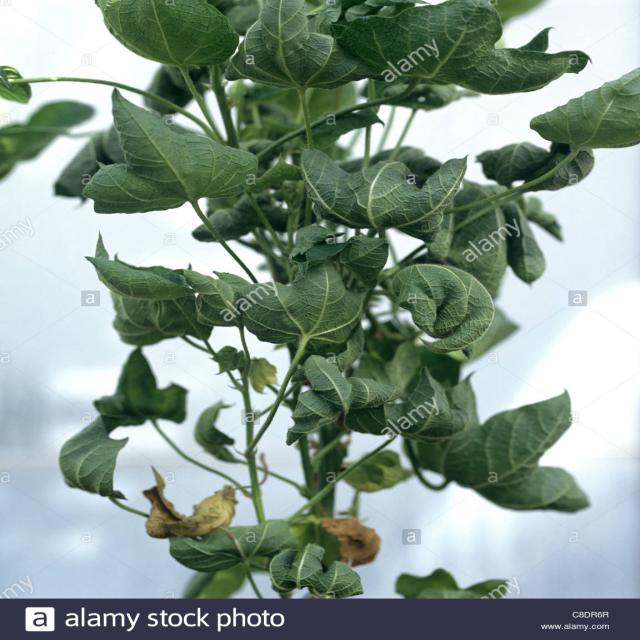Leaf Curl Virus: (100, 2, 582, 576)
